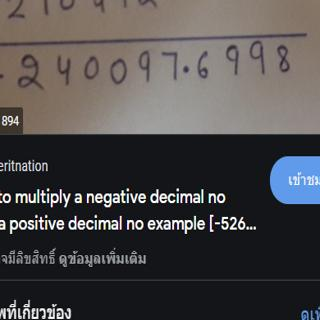.: (180, 62, 191, 75)
0: (108, 56, 129, 84), (83, 54, 103, 79)
2: (16, 50, 45, 96), (229, 212, 240, 231)
4: (55, 54, 77, 87), (13, 113, 19, 126)
5: (221, 211, 232, 229)
6: (198, 50, 211, 81), (237, 214, 248, 231)
7: (161, 49, 179, 81)
8: (276, 44, 293, 73), (1, 114, 8, 126)
9: (249, 40, 268, 77), (226, 43, 241, 80), (138, 49, 152, 85), (8, 114, 14, 125)
